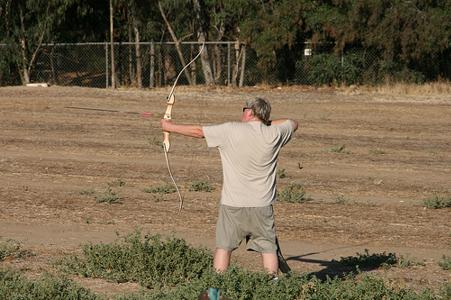person: (160, 97, 300, 280)
